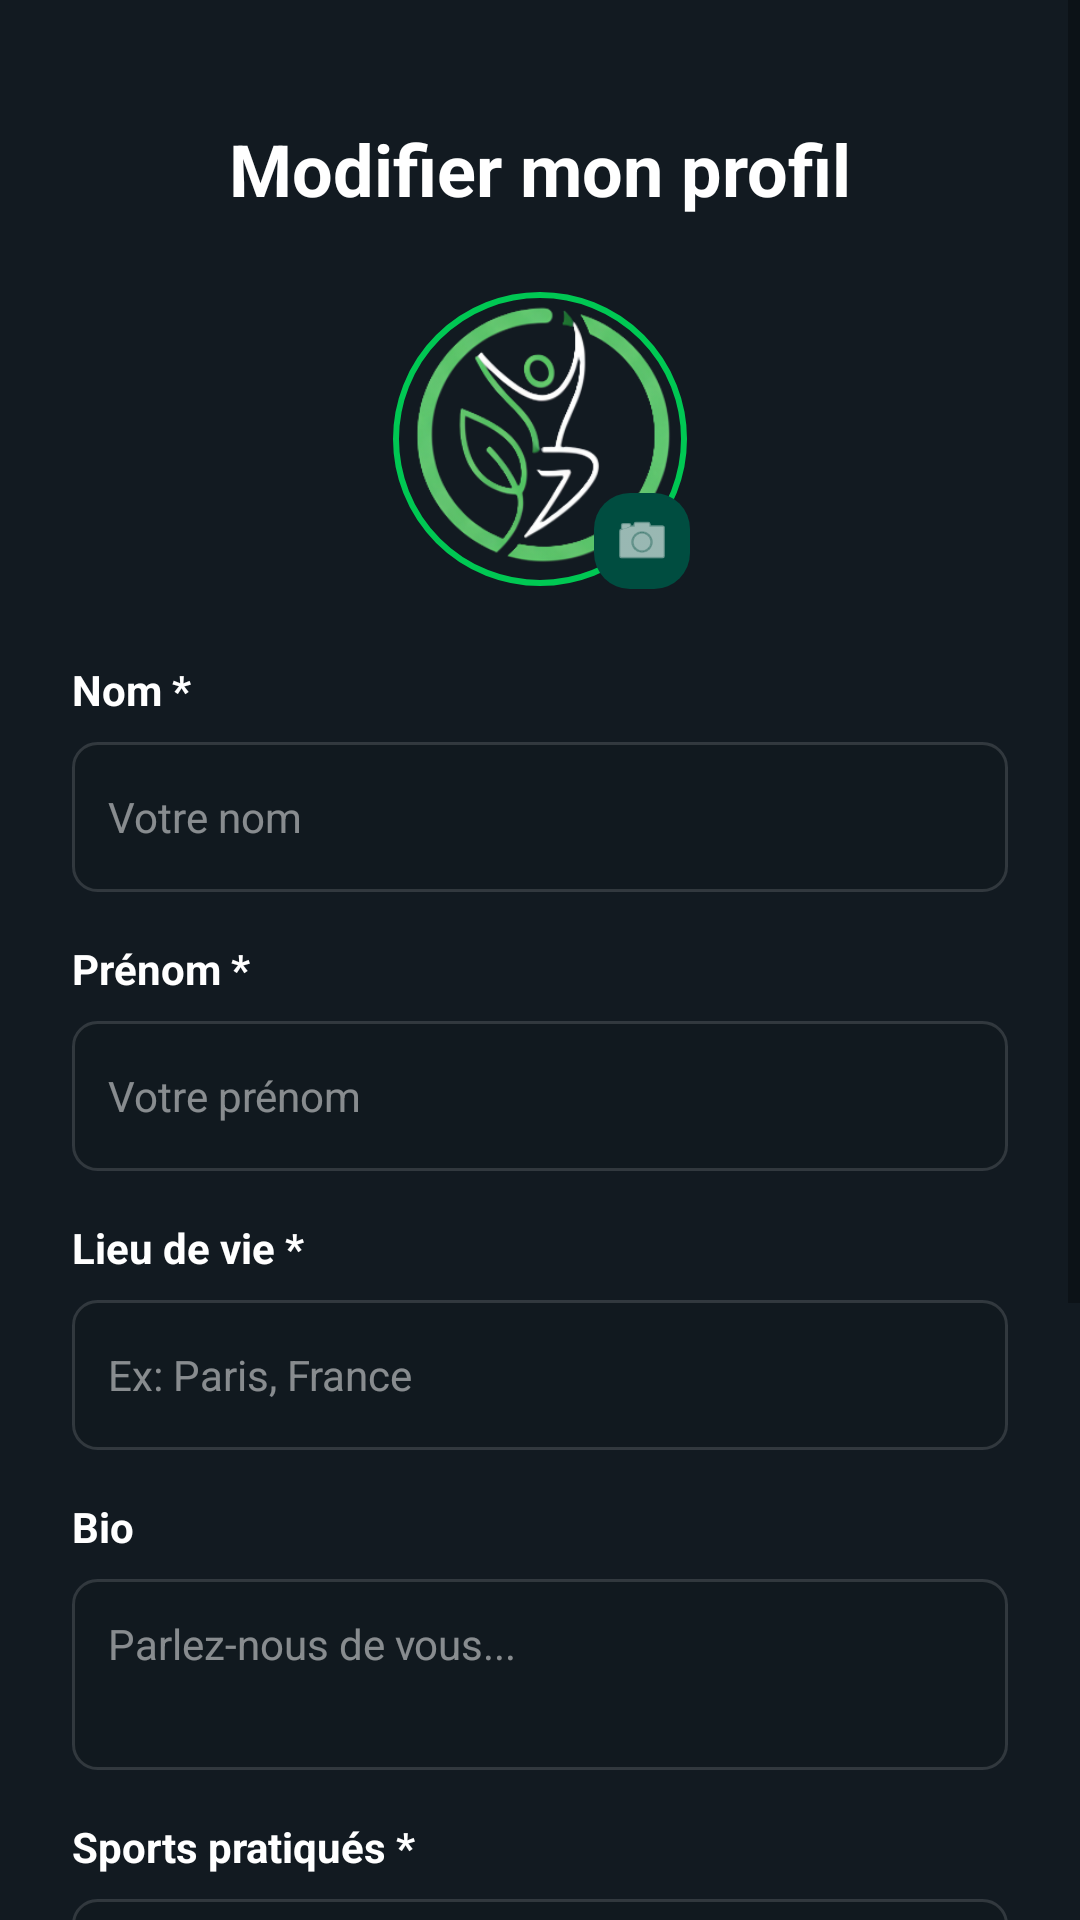

Icons on this 1080*1920 Android screen, each with its box as {"left": x1, "top": y1, "right": x2, "bottom": y2}:
camera: {"left": 594, "top": 493, "right": 690, "bottom": 589}
